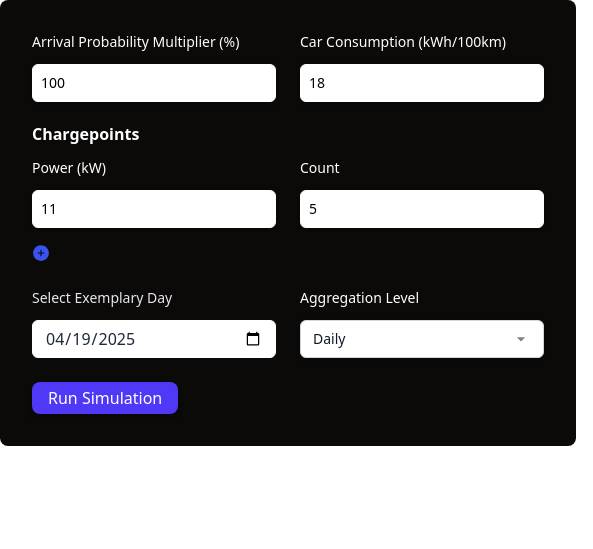
Test case: ChargePointForm › adds a new chargepoint on clicking add button
What coordinates should you click on to do the following:
click the button named "Add Charging Point"
I would click on:
 (41, 253)
Its box is [32, 244, 50, 262].
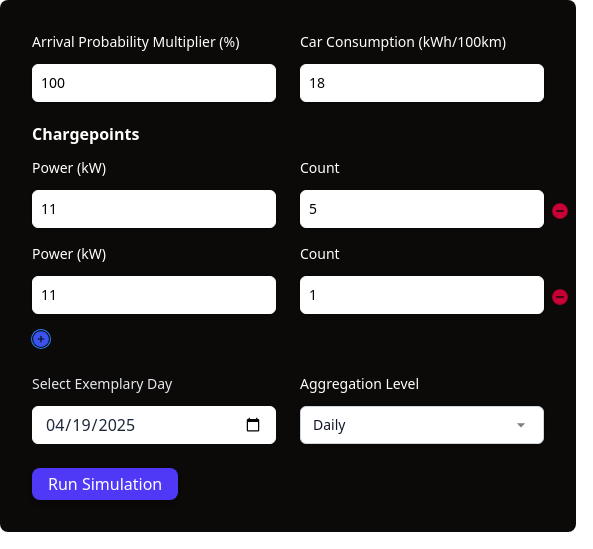
Result: the number of number fields labelled "Power (kW)" is 2 at [32, 190, 276, 228]; [32, 276, 276, 314]
